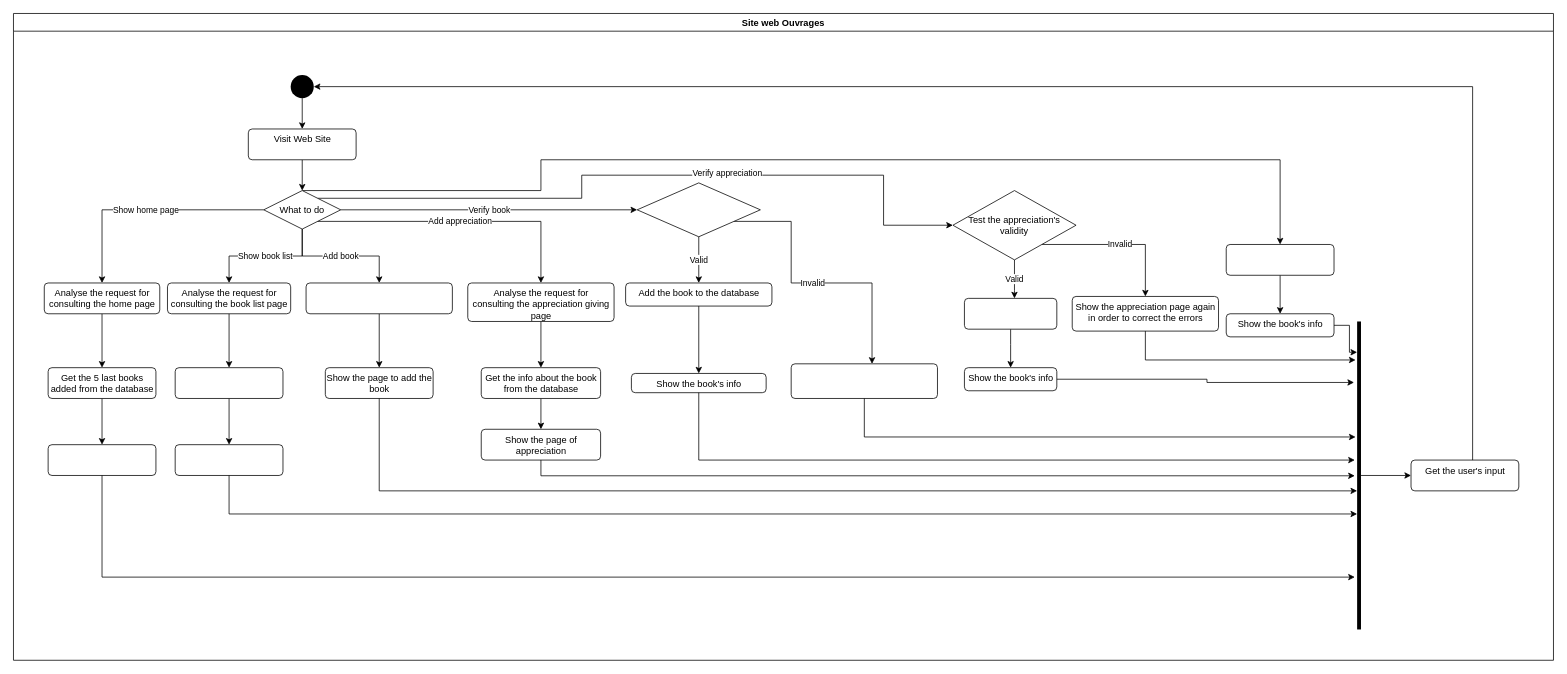
Some shapes in this 1567 by 674 pixel diagram are drawn without their labels. The shapes that lost their labels are listed below. From the top down, each one's centre as x and y in pixels, then its label:
At [698,209]: "Test the book's properties' validity".
At [1279,259]: "Analyse the request for vewing a book's details".
At [378,298]: "Analyse the request for consulting the book adding page".
At [1010,313]: "Add the appreciation to the database".
At [228,382]: "Get all the needed books from the database".
At [863,380]: "Show the book adding page again in order to correct the errors".
At [101,459]: "Show the home page".
At [228,459]: "Show the page with the books".
